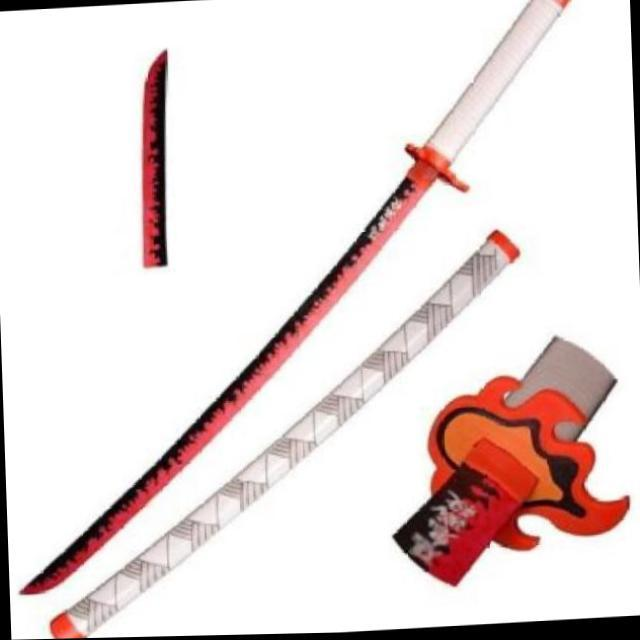weapon: (0, 0, 595, 591)
